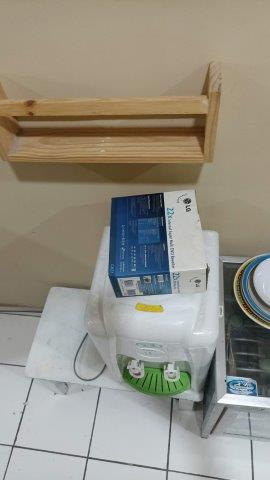kardus: (109, 190, 207, 297)
